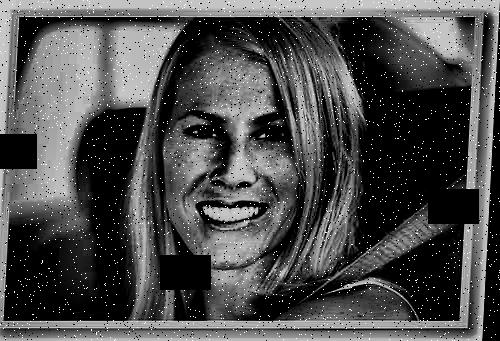seatbelt: (286, 188, 443, 305)
